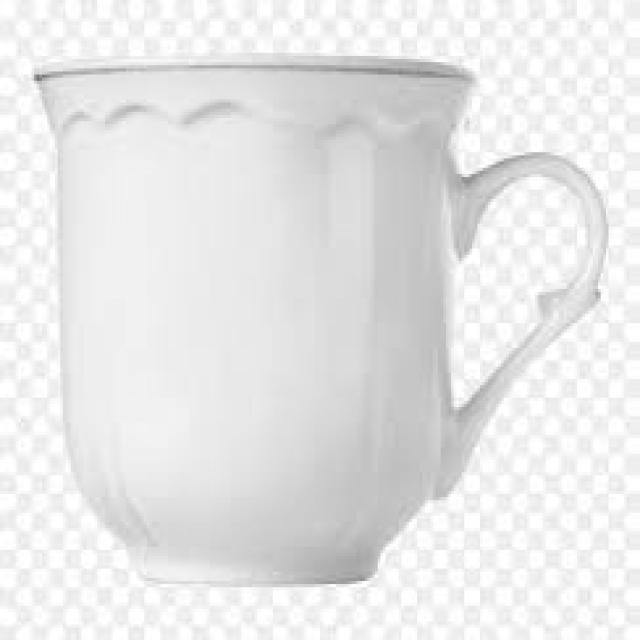taza: (23, 31, 620, 598)
